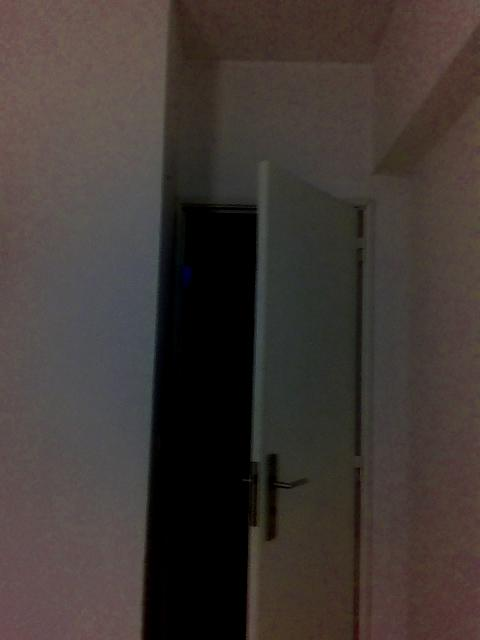semi_door: (163, 154, 372, 639)
